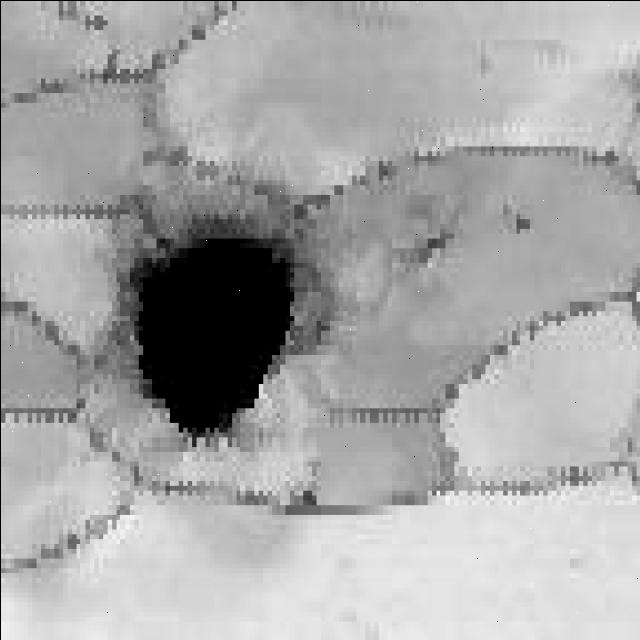good_void: (109, 212, 323, 447), (393, 220, 465, 278), (499, 195, 535, 238)
